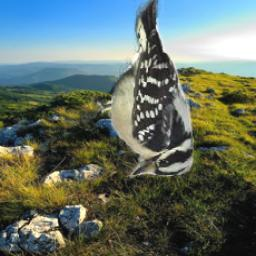Woodpecker: (82, 0, 197, 181)
